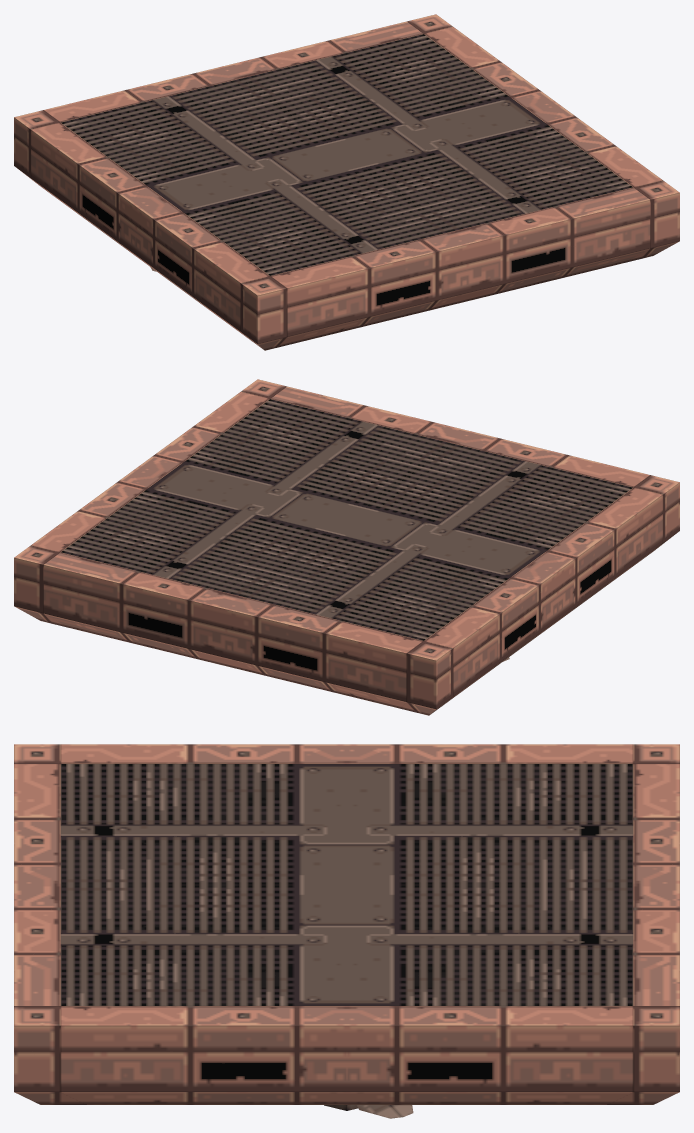
The model's file is FloatingPlatform_2x2_Stone.fbx.
3 renders of one model, top to bottom at view 1: azimuth 30°, elevation 25°; view 2: azimuth 150°, elevation 25°; view 3: azimuth 270°, elevation 25°, orthographic. The views are drawn at different scales.
Parts seen in each view (by area): view 1: Platform; view 2: Platform; view 3: Platform, Fan1.
Part boxes in pixels (x1,y1,x2,y2): Platform: [14, 14, 679, 350]; Platform: [14, 379, 679, 715]; Platform: [14, 744, 679, 1110]; Fan1: [356, 1105, 413, 1118].
Bounding box in the file's own units: 50 × 11.5 × 50.
